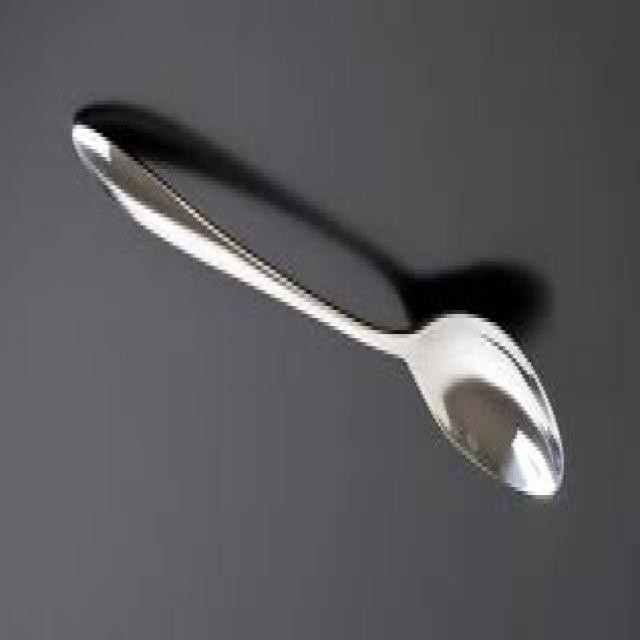spoon: (65, 108, 567, 510)
